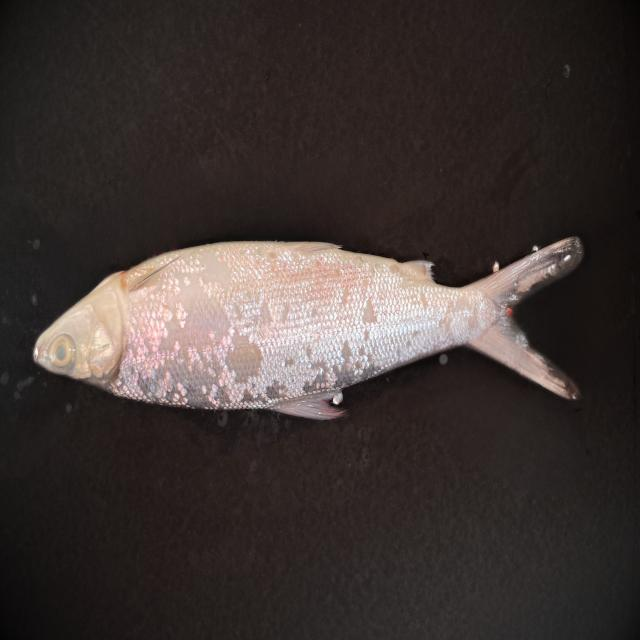800 g: (33, 237, 577, 420)
